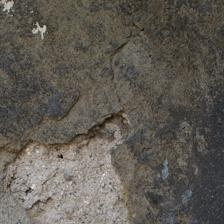Crack: (71, 0, 181, 78), (10, 42, 121, 99)
